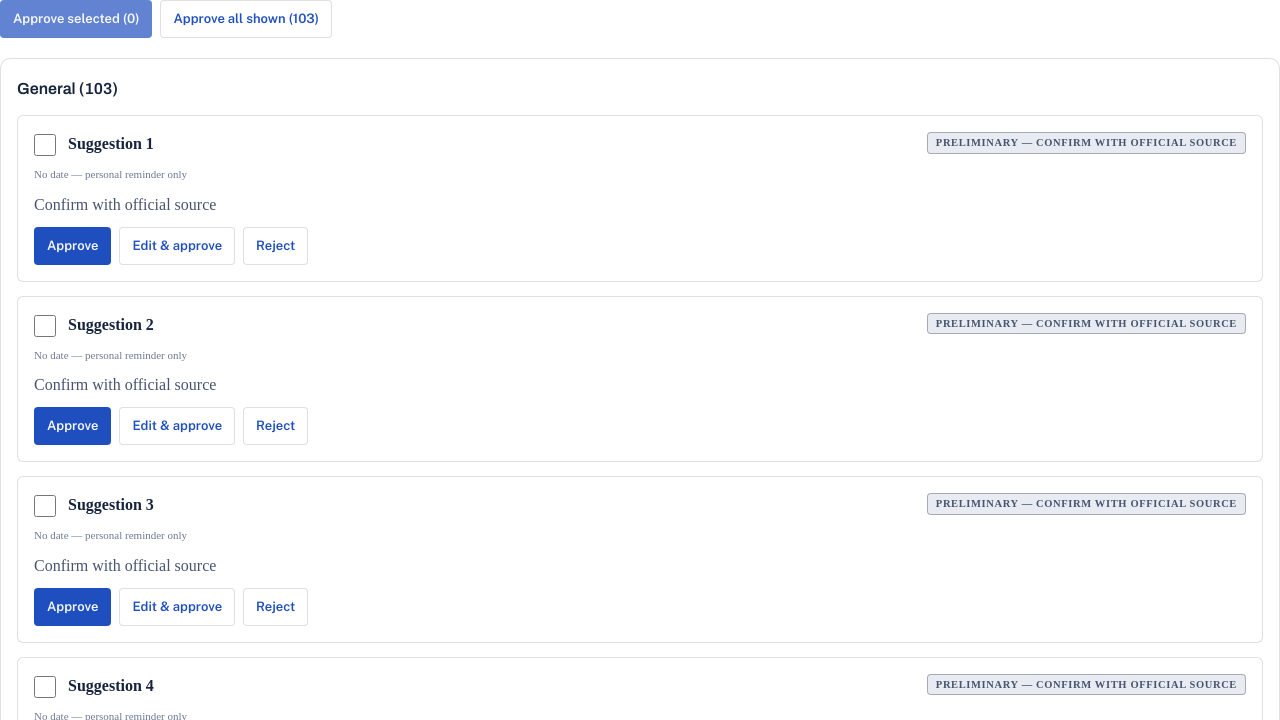
Test: reports exactly the confirmed first batch when later approval fails
Click the button "Approve all shown (103)" at (246, 19), box x1=160 y1=0 x2=332 y2=38
(page scrolled)
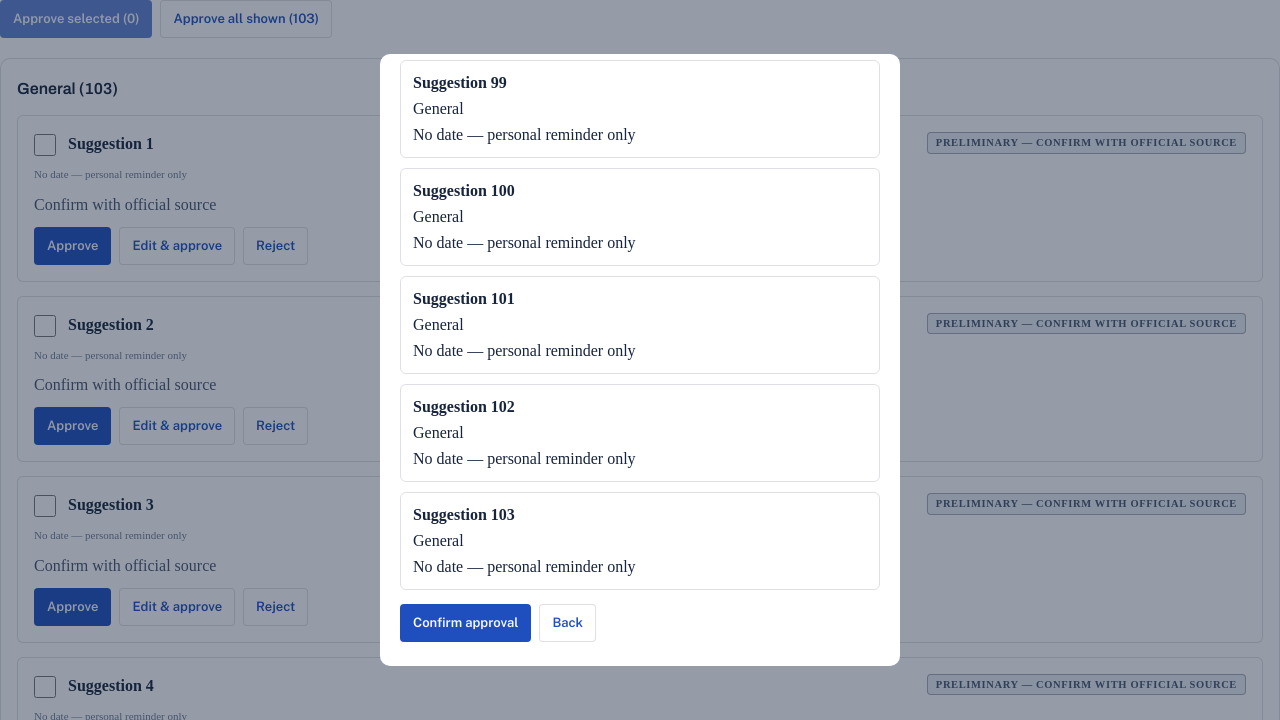
Click the button "Confirm approval" at (466, 623), box x1=400 y1=604 x2=532 y2=642
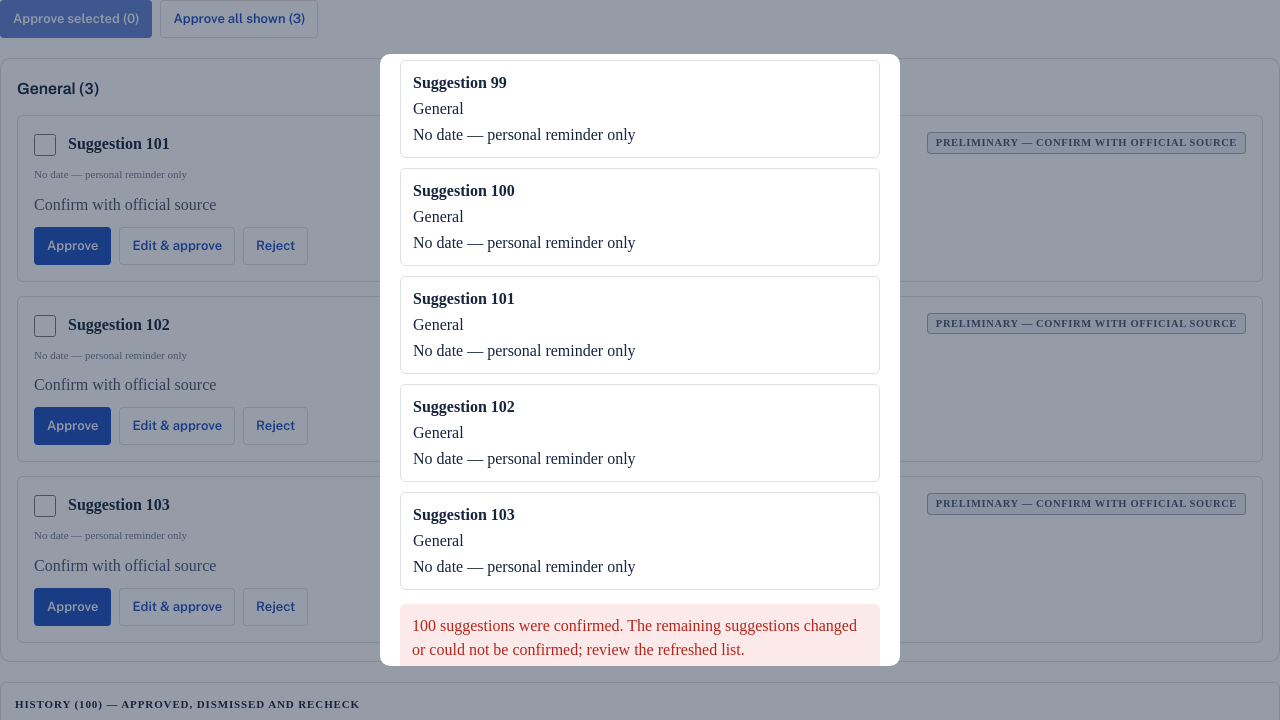
Expected: the dialog named "Confirm approval" shows "100 suggestions were confirmed. The remaining suggestions changed or could not be confirmed; review the refreshed list.", x1=412 y1=617 x2=857 y2=658
Expected: the text "History (100)" is shown, x1=15 y1=698 x2=360 y2=710
